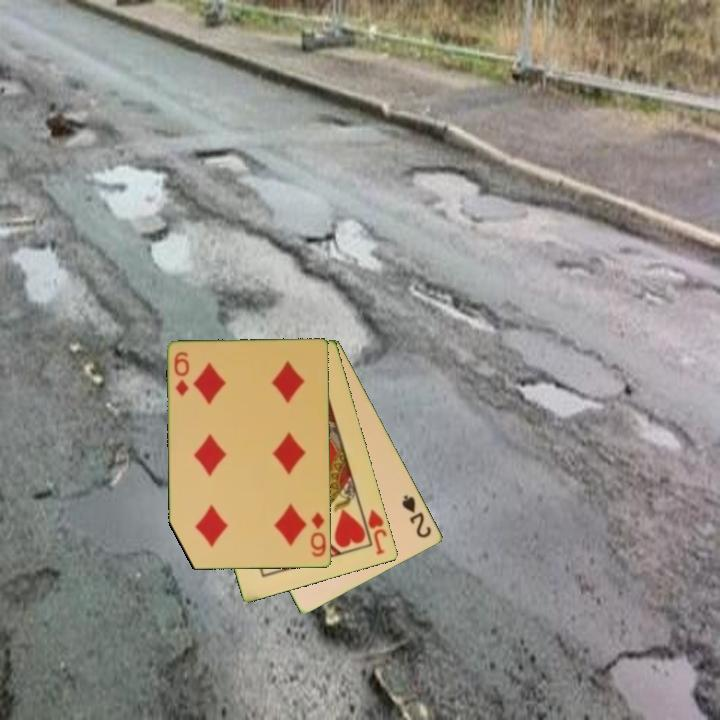2s: (399, 491, 435, 541)
6d: (307, 509, 329, 560), (171, 349, 192, 400)
Jh: (365, 506, 390, 558)
